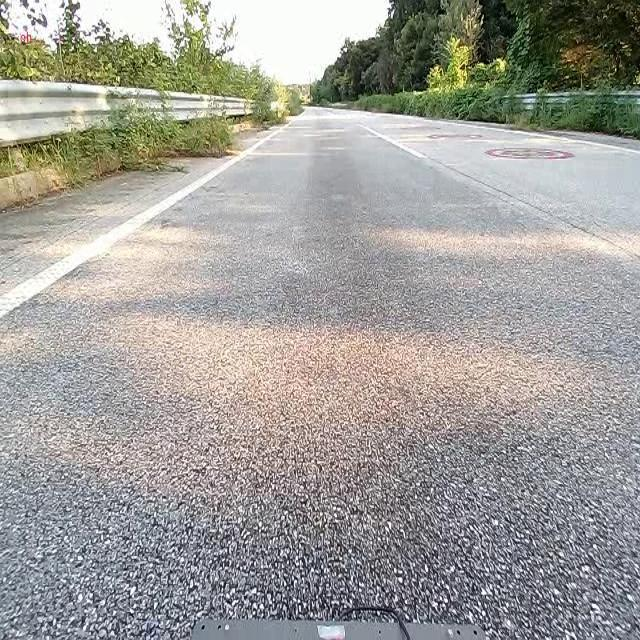Lane: (0, 128, 281, 318), (0, 124, 272, 314)
